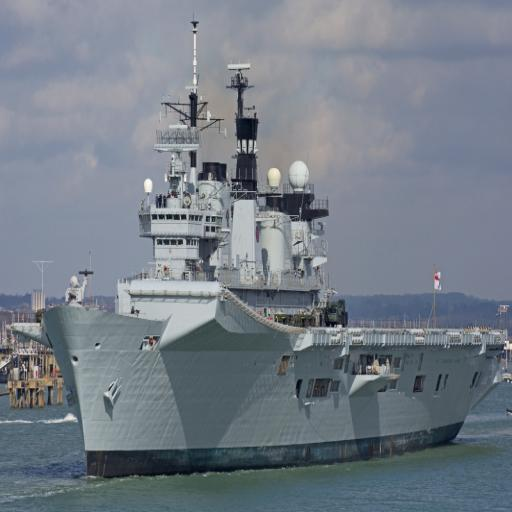Portanaves: (7, 14, 508, 489)
